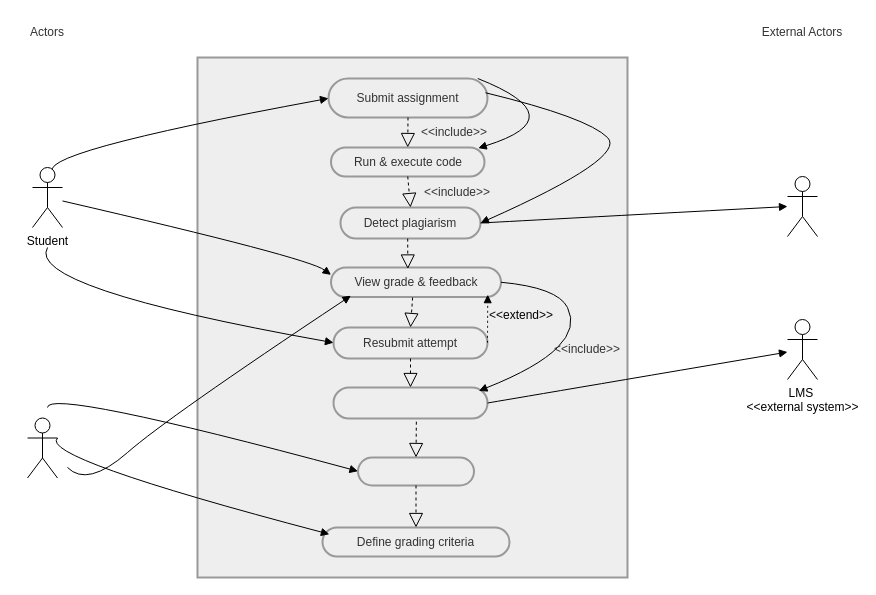
This 876x595 diagram has some shape labels left out. Here are the shapes that lost their labels. From the top down, the centre of each, then its label:
pixel 802 206: Turnitin <<service>>
pixel 410 402: Sync grade to LMS
pixel 42 447: Professor
pixel 415 471: Set due date
